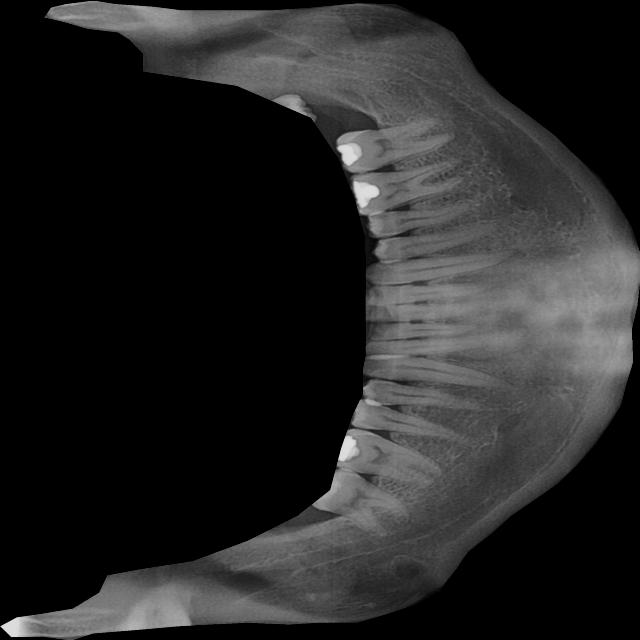mandibula: (0, 0, 640, 640)
